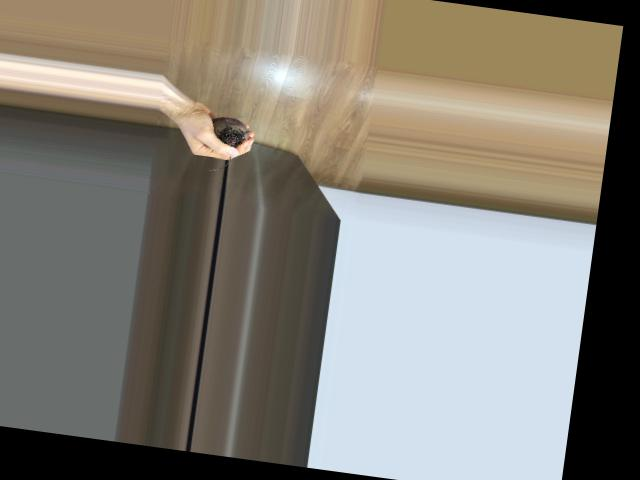beet: (205, 115, 252, 175)
